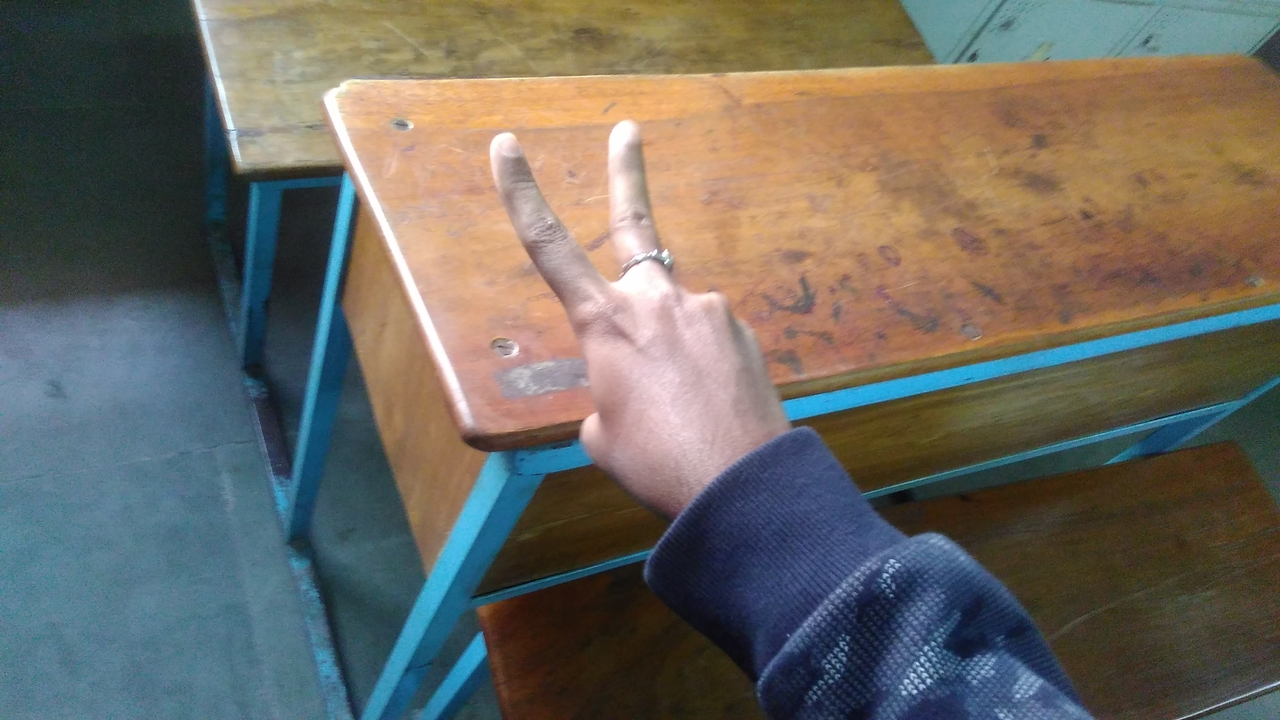fingertip: (478, 124, 536, 176), (598, 108, 654, 156)
